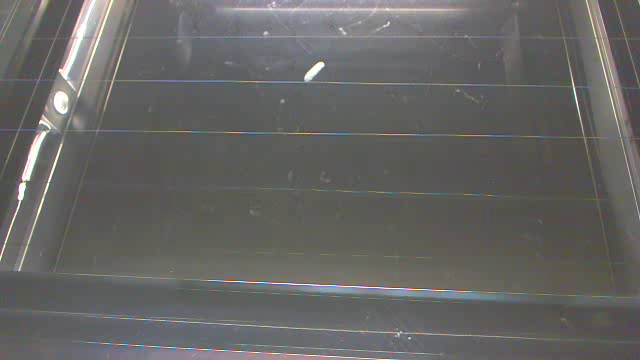alpha: (301, 56, 328, 87)
